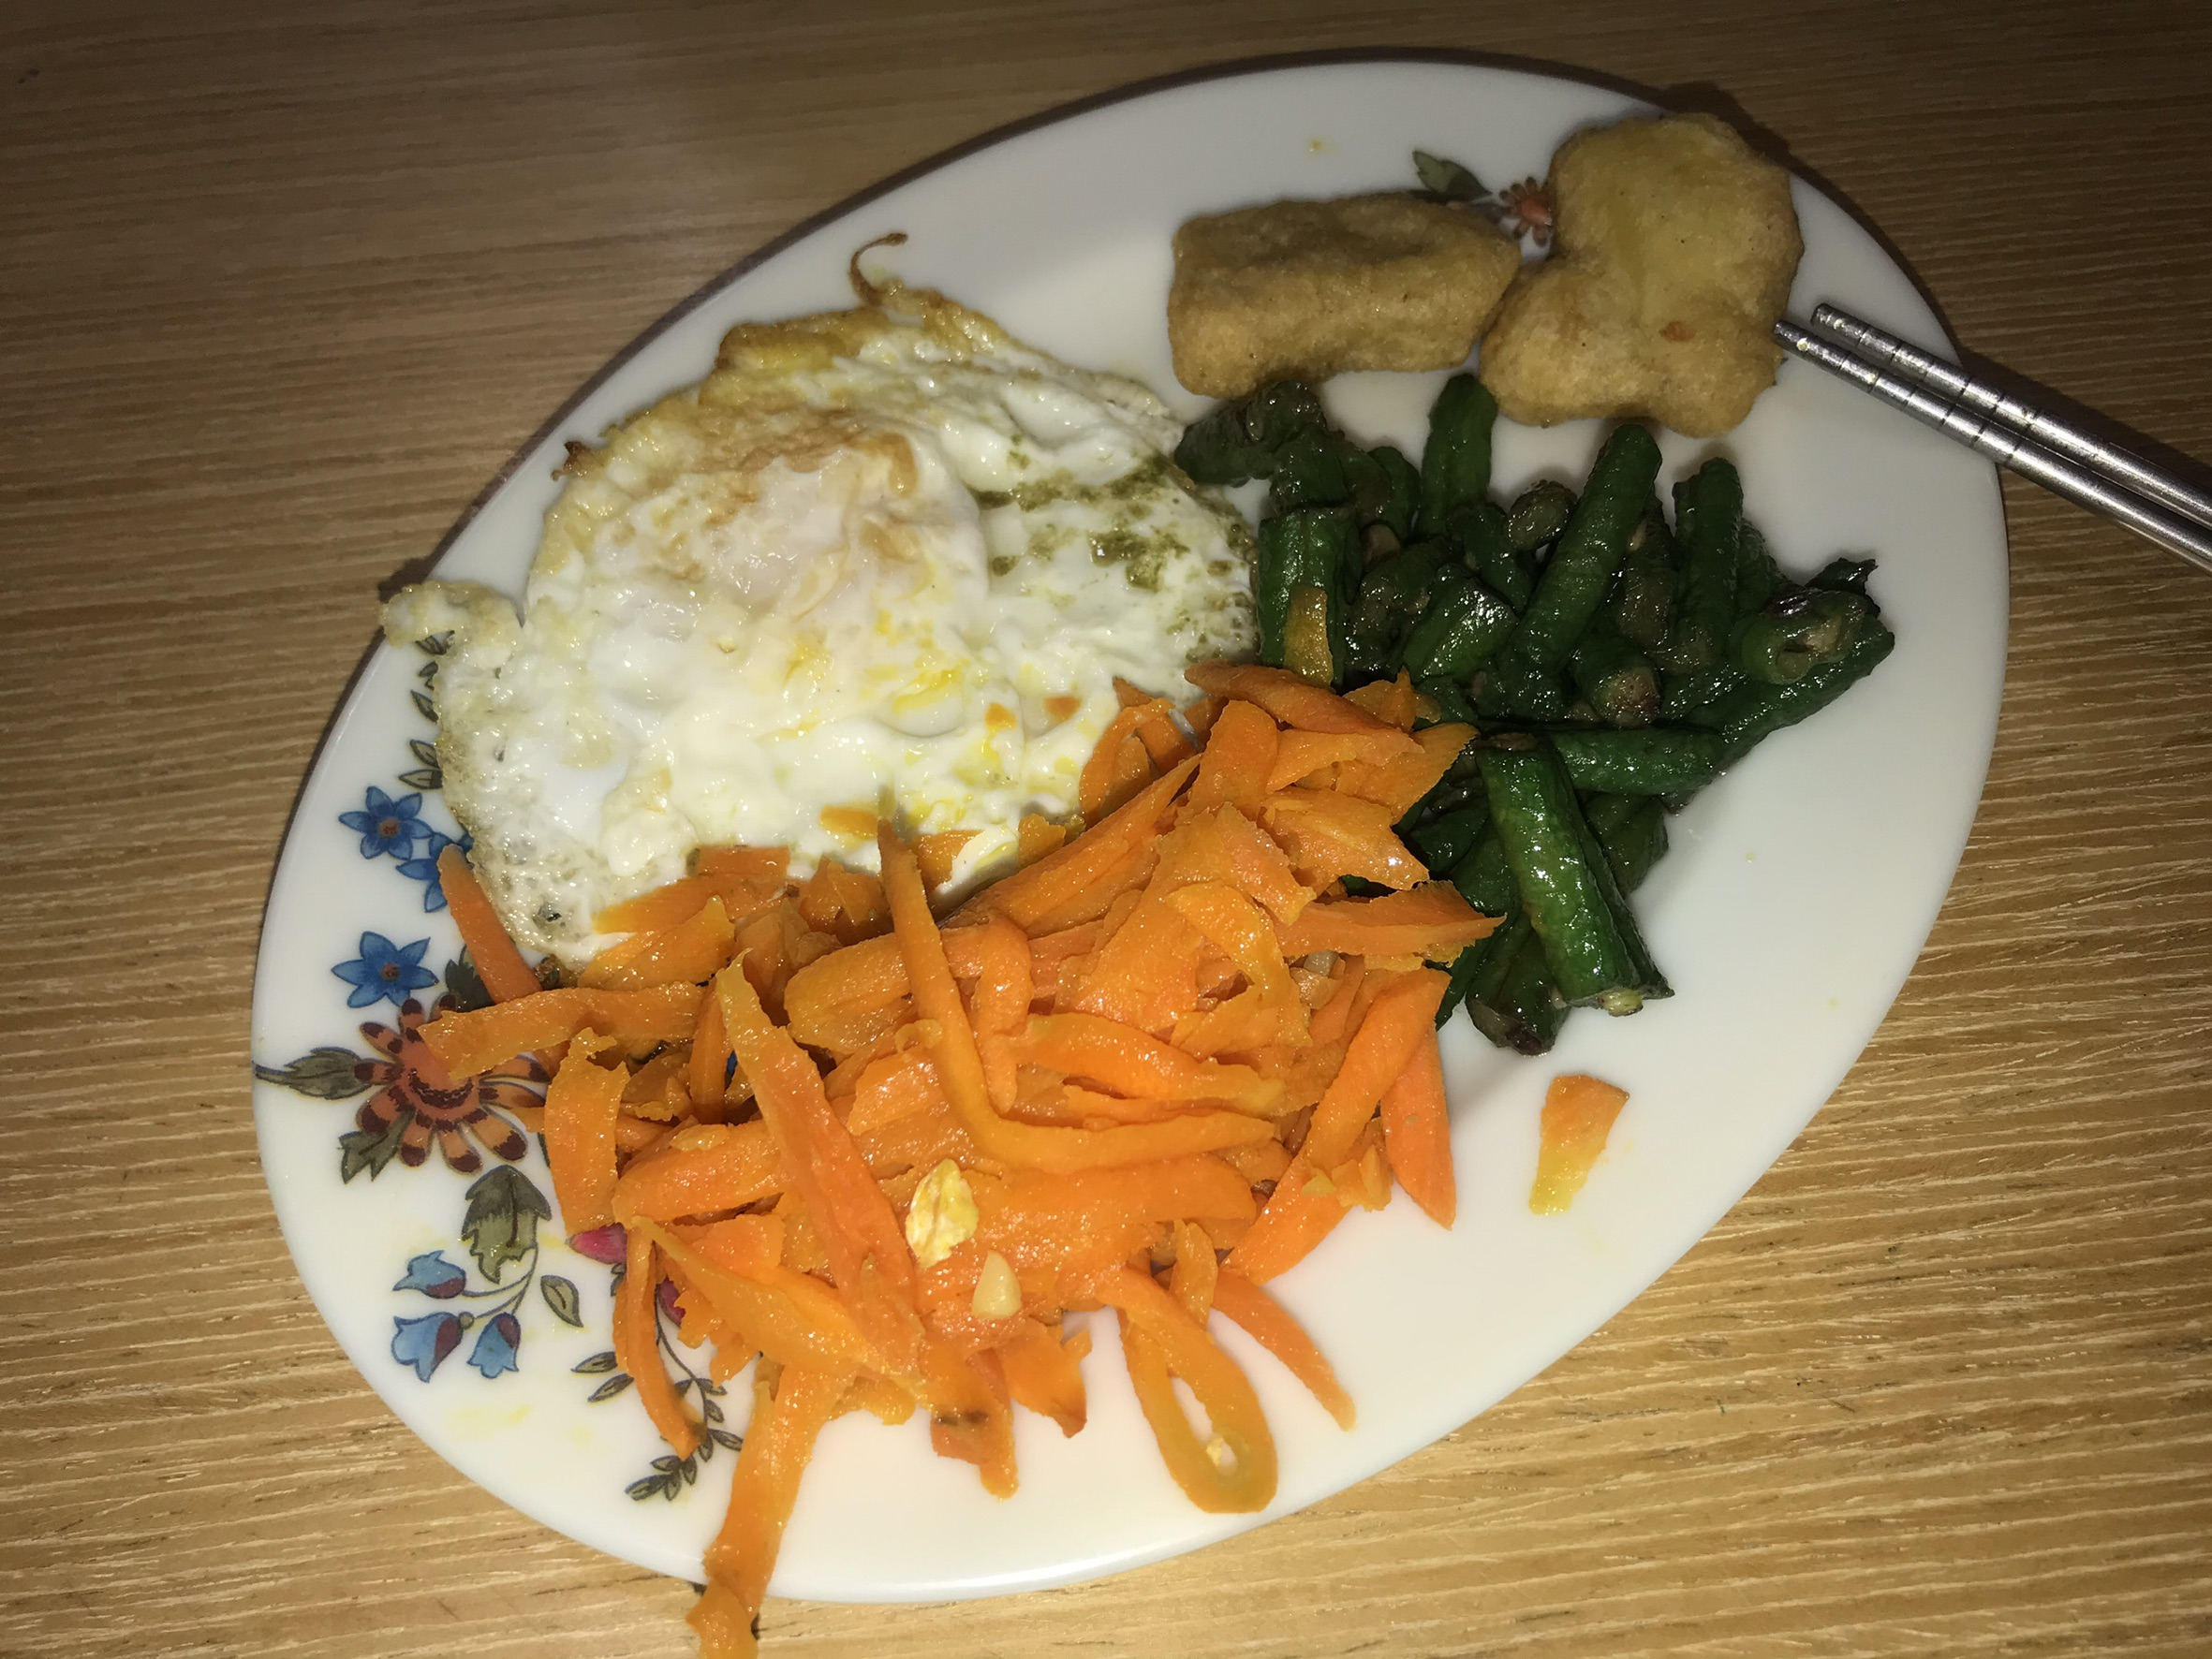carrot_eggs: (544, 800, 1452, 1359)
chicken_nuggets: (1171, 108, 1806, 399)
fried_eggs: (436, 291, 1241, 960)
